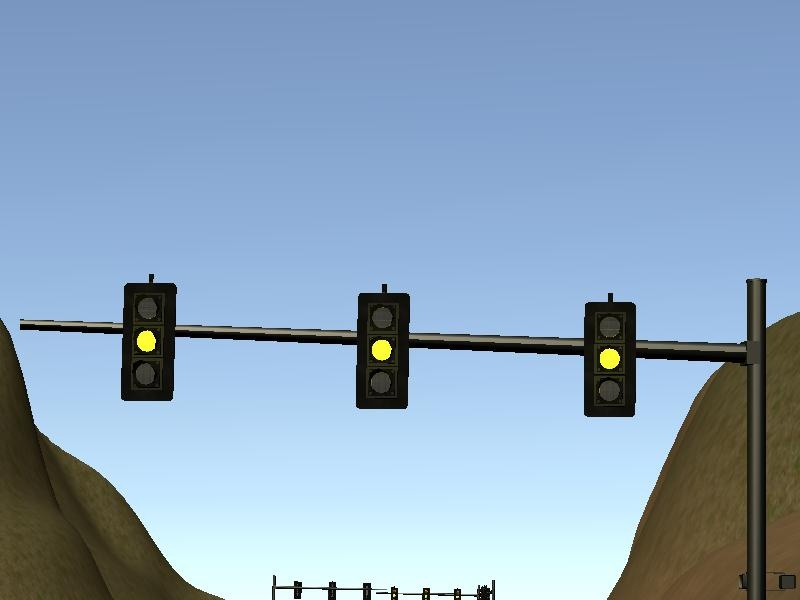YELLOW: (353, 286, 411, 411), (578, 293, 636, 418), (117, 278, 175, 403)
